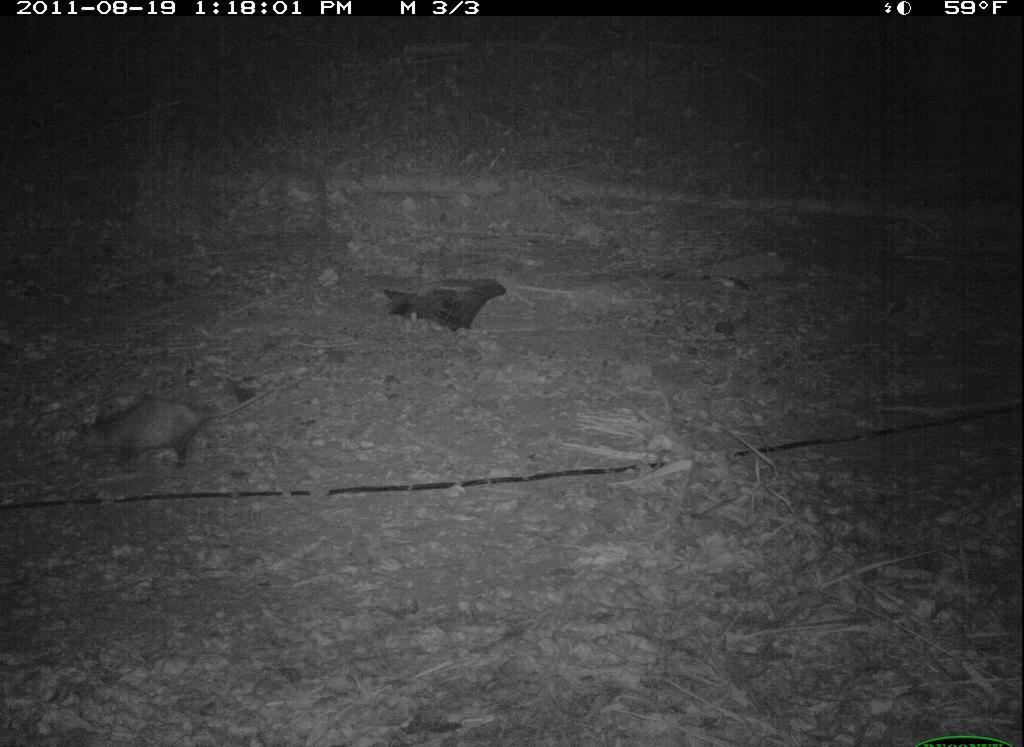opossum: (59, 370, 295, 482)
